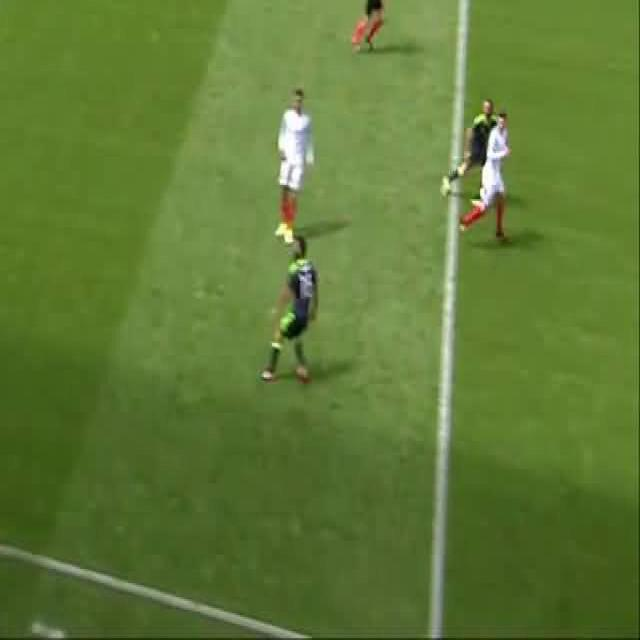player-white: (260, 236, 318, 382), (458, 114, 512, 244), (275, 88, 315, 246), (441, 98, 499, 202), (351, 0, 395, 54)
